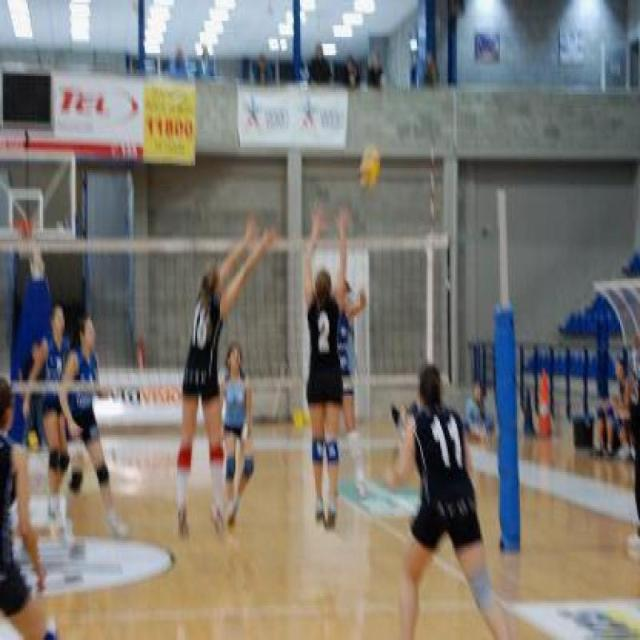volleyball: (357, 142, 386, 189)
